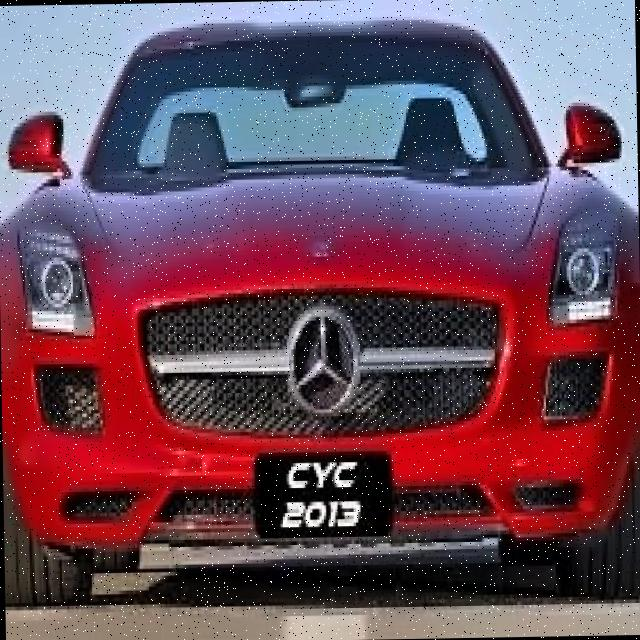License_Plate: (252, 453, 397, 545)
car: (1, 12, 640, 611)
